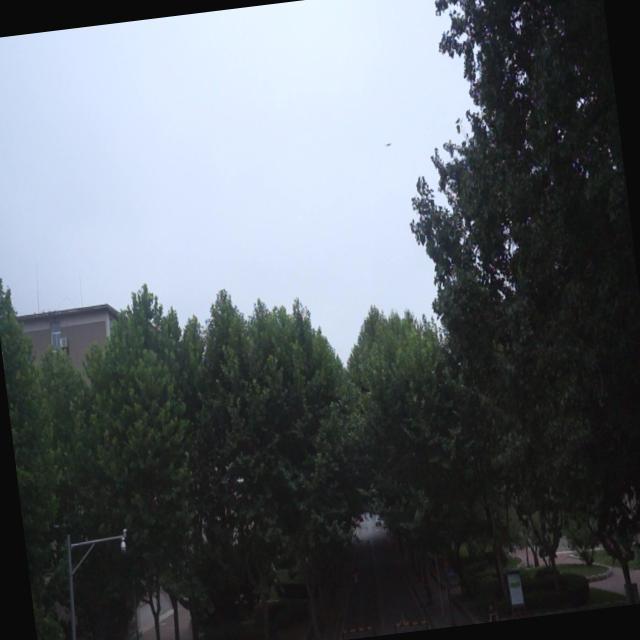drone: (383, 136, 394, 152)
